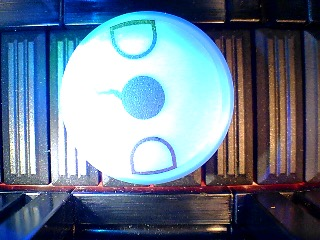CRACK: (59, 10, 235, 185)
